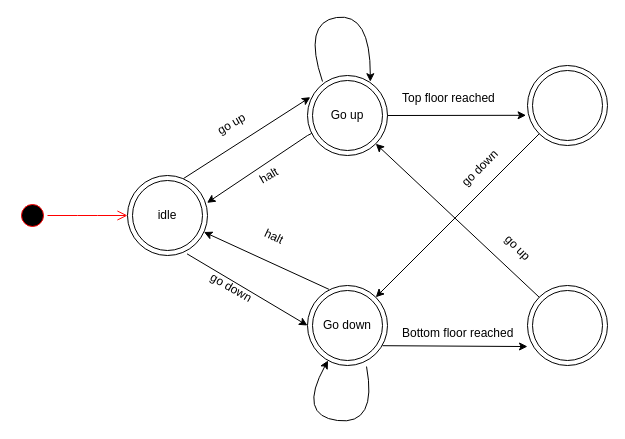
Some shapes in this 625 by 439 pixel diagram are drawn without their labels. The centre of each missing label's shape, as x and y in pixels:
"Bottom" goes at point 567,325.
"Top" goes at point 567,105.
